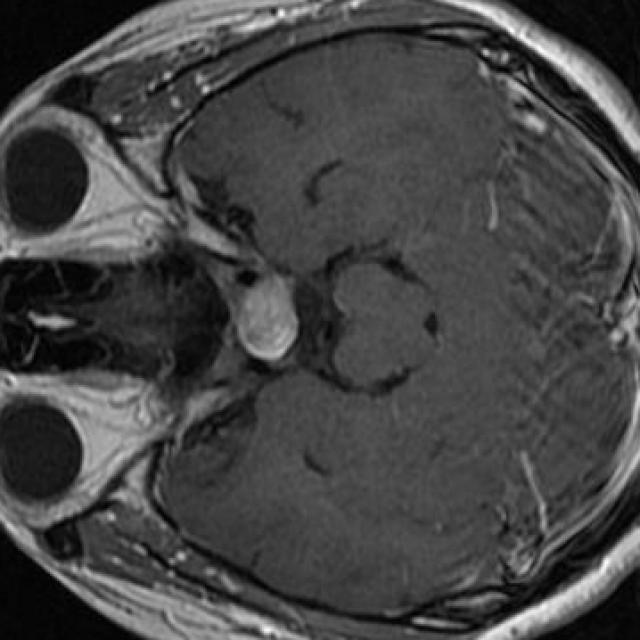pituitary: (237, 273, 298, 364)
